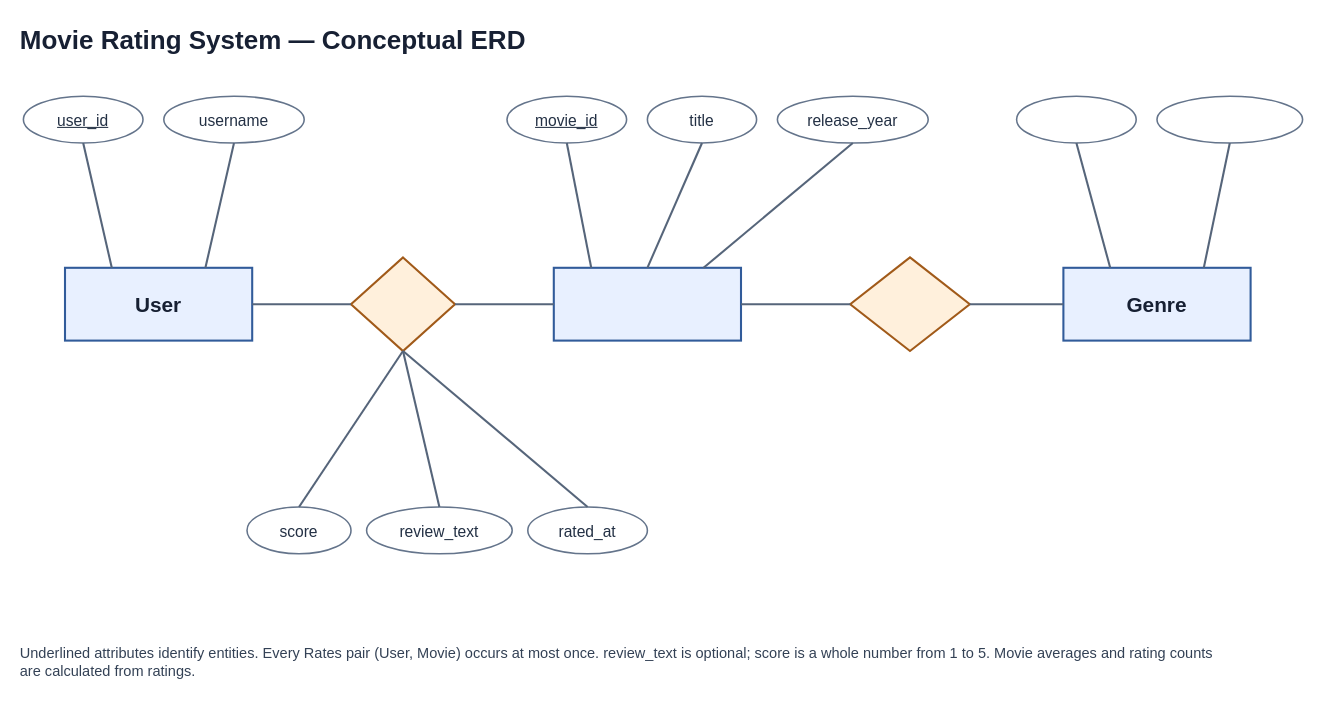
This 1321x709 diagram has some shape labels left out. The shapes that lost their labels are listed below. From the top down, each one's centre as x and y in pixels, then its label:
At pixel 1076 119: "genre_id".
At pixel 1229 119: "genre_name".
At pixel 402 304: "Rates".
At pixel 647 303: "Movie".
At pixel 909 304: "HasGenre".
